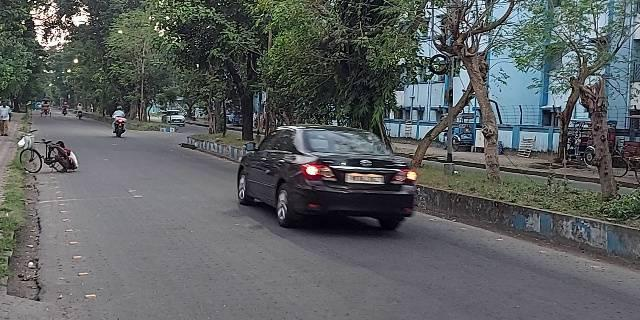Car: (236, 123, 420, 239)
Cycle: (19, 133, 69, 177)
Motorbike: (109, 103, 130, 139)
